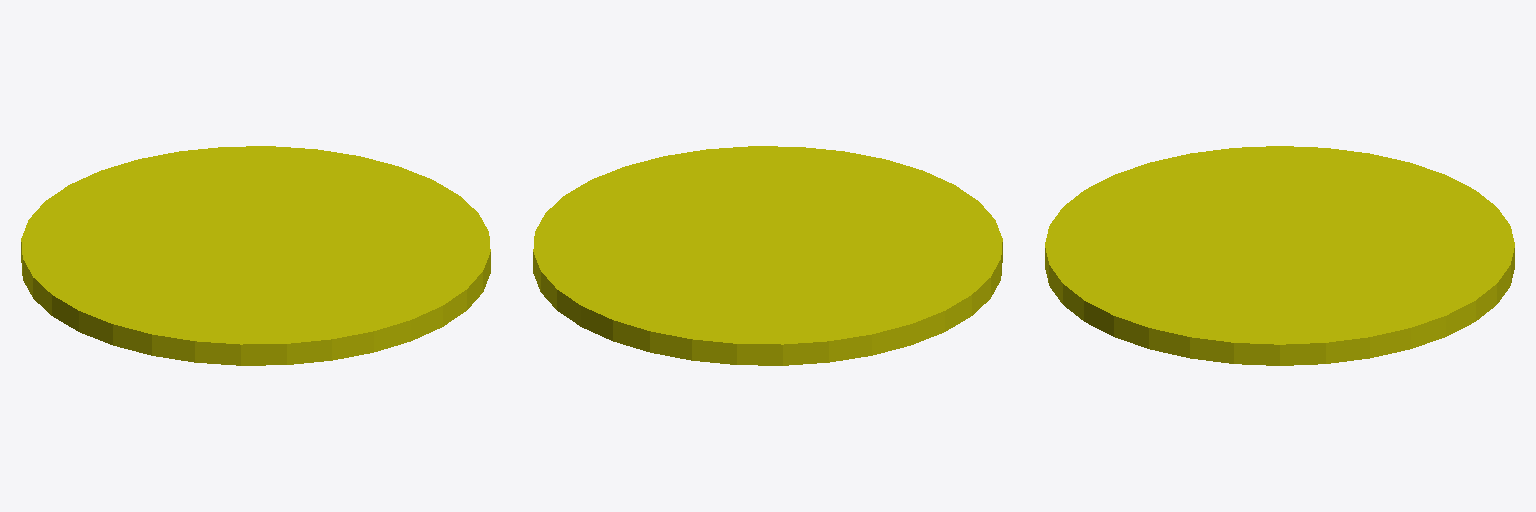
Rendered from RoachCoin.obj.
3 renders of one model, left to right at view 1: azimuth 30°, elevation 25°; view 2: azimuth 150°, elevation 25°; view 3: azimuth 270°, elevation 25°, orthographic.
Parts seen in each view (by area): view 1: Coin_Cylinder; view 2: Coin_Cylinder; view 3: Coin_Cylinder.
Part boxes in pixels (bbox=[...]): Coin_Cylinder: bbox=[21, 146, 490, 365]; Coin_Cylinder: bbox=[533, 146, 1002, 365]; Coin_Cylinder: bbox=[1045, 146, 1514, 365].
Size of the model in its own units: 0.1 by 0.005 by 0.1.